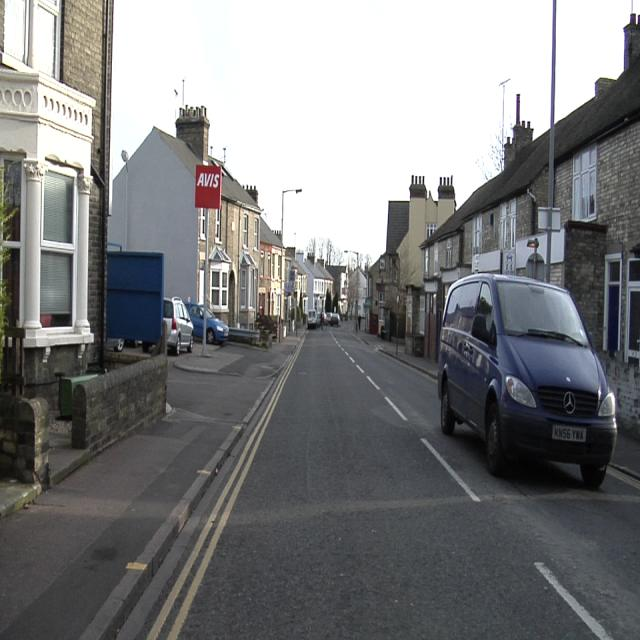Building: (1, 4, 317, 388), (392, 16, 639, 405), (109, 106, 295, 333)
Car: (438, 276, 615, 485), (163, 300, 192, 354), (200, 305, 227, 343), (187, 304, 202, 340), (308, 314, 320, 327), (329, 313, 339, 326)
Road: (78, 326, 637, 638)
Tree: (475, 83, 508, 180), (307, 237, 343, 310)
